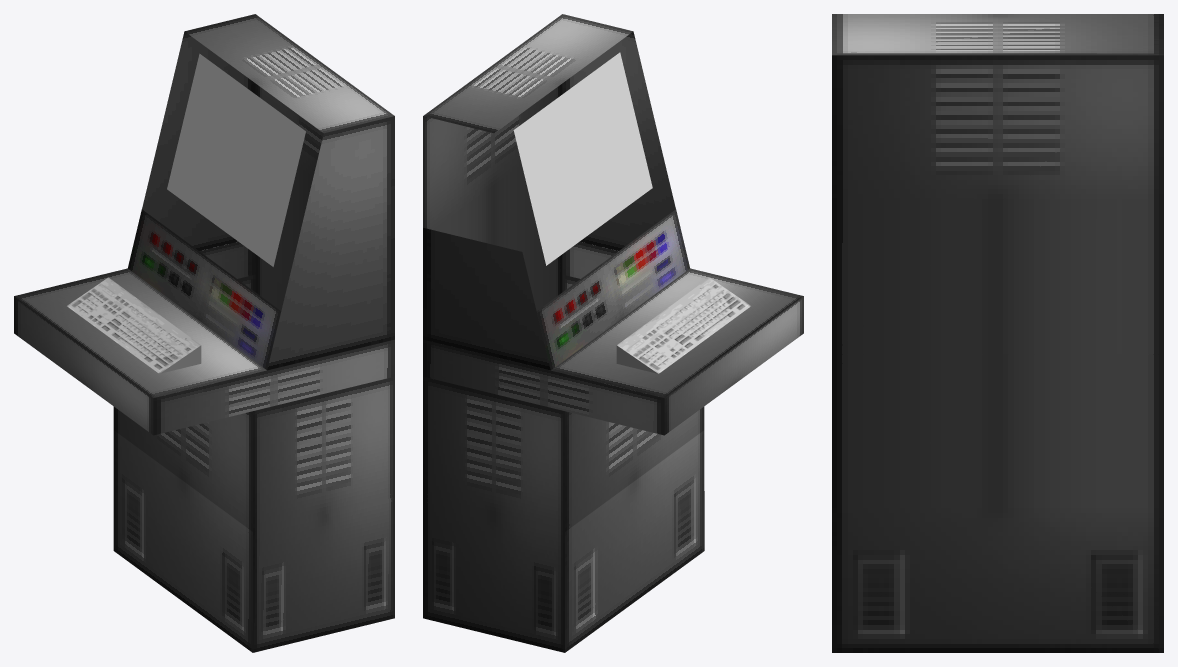
File: console.glb
3 renders of one model, left to right at view 1: azimuth 30°, elevation 25°; view 2: azimuth 150°, elevation 25°; view 3: azimuth 270°, elevation 25°, orthographic. The views are drawn at different scales.
Parts seen in each view (by area): view 1: Object; view 2: Object; view 3: Object.
Boxes of the visible parts, left/top/right/bottom form: Object: left=14, top=14, right=394, bottom=652; Object: left=423, top=14, right=803, bottom=652; Object: left=832, top=14, right=1163, bottom=652.
Size of the model in its own units: 0.896 by 1.78 by 0.8962.
20 materials, 20 textured.
